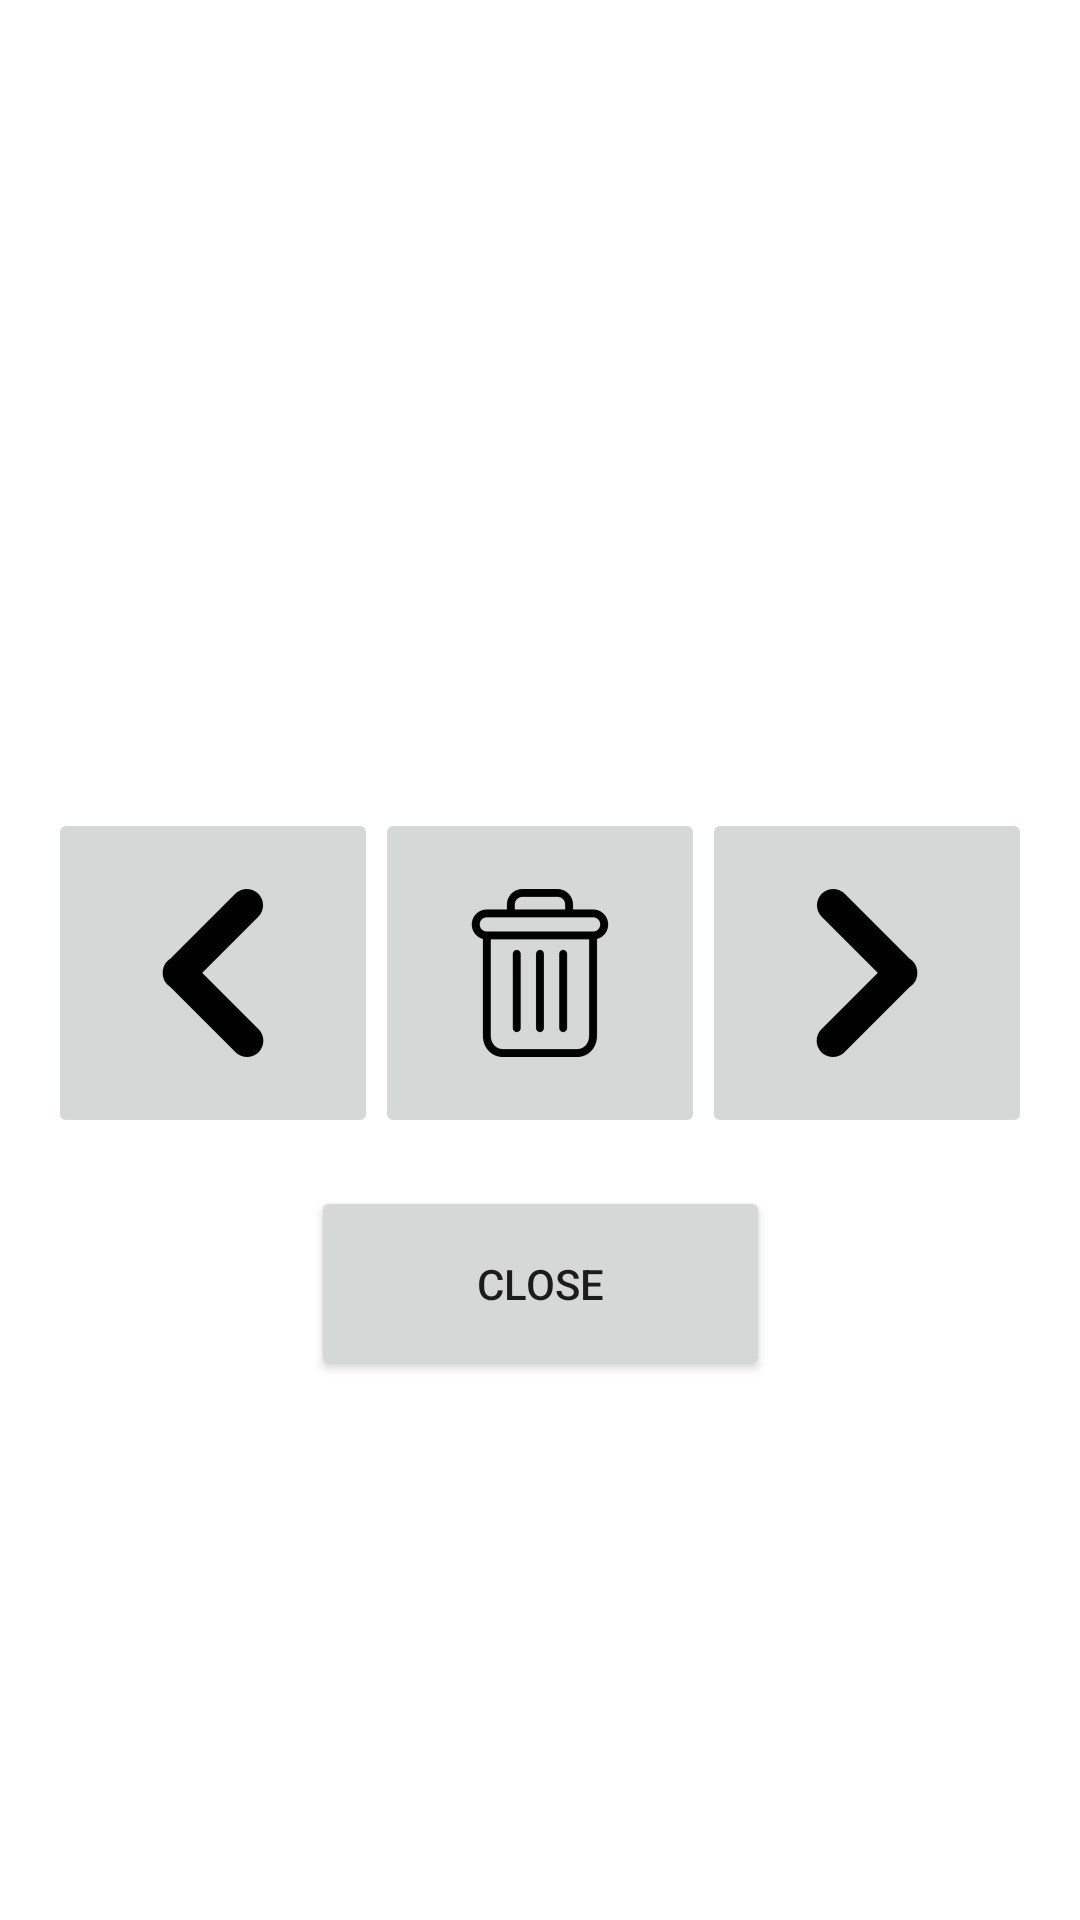

Icon bounding boxes for this 1080px x 1920px phone screenshot, format rect(x1, y1, x2, y2):
Next Button: rect(714, 826, 1020, 1120)
Previous Button: rect(60, 826, 366, 1120)
Trash Button: rect(387, 826, 693, 1120)
